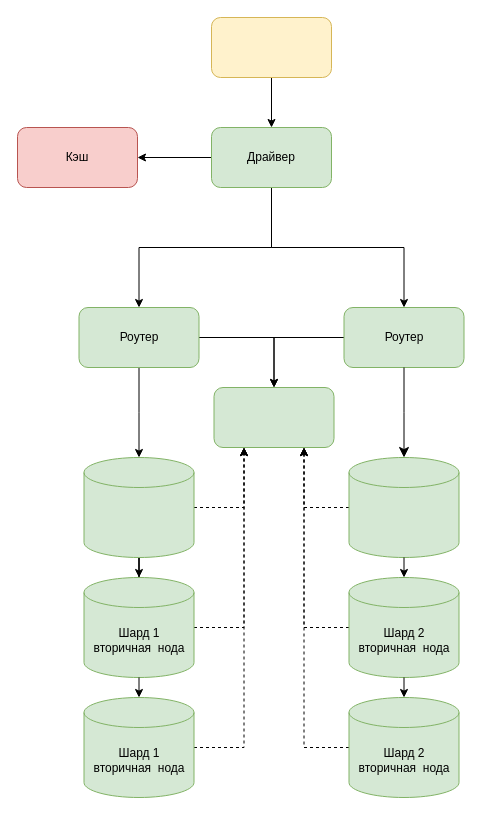
The diagram is 482 pixels wide and 815 high, and some of its shapes have lost their labels. Here are the shapes that lost their labels. From the top down, the centre of each, then its label:
At [271,47]: "pymongo-api".
At [273,417]: "Конфигурационный сервер".
At [138,507]: "Шард 1 первичная нода".
At [403,507]: "Шард 2 первичная нода".
